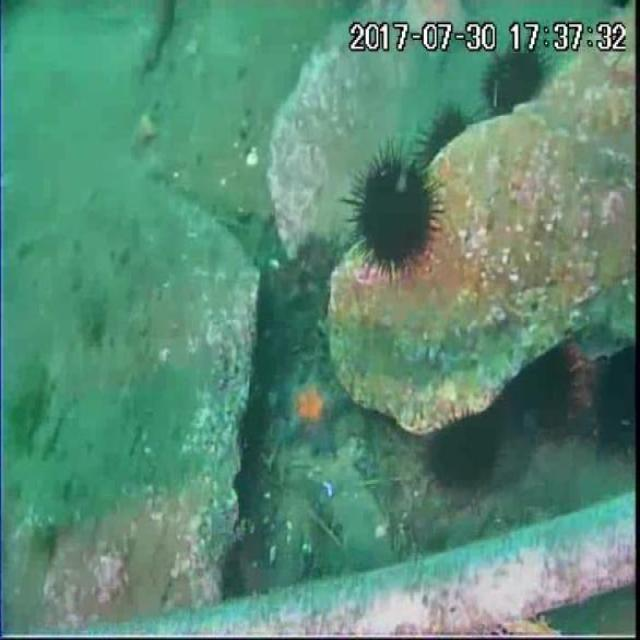echinus: (352, 153, 441, 271), (422, 410, 504, 498), (503, 343, 579, 429), (592, 347, 640, 457), (485, 47, 546, 117), (410, 107, 470, 176)
starfish: (272, 360, 355, 461)
